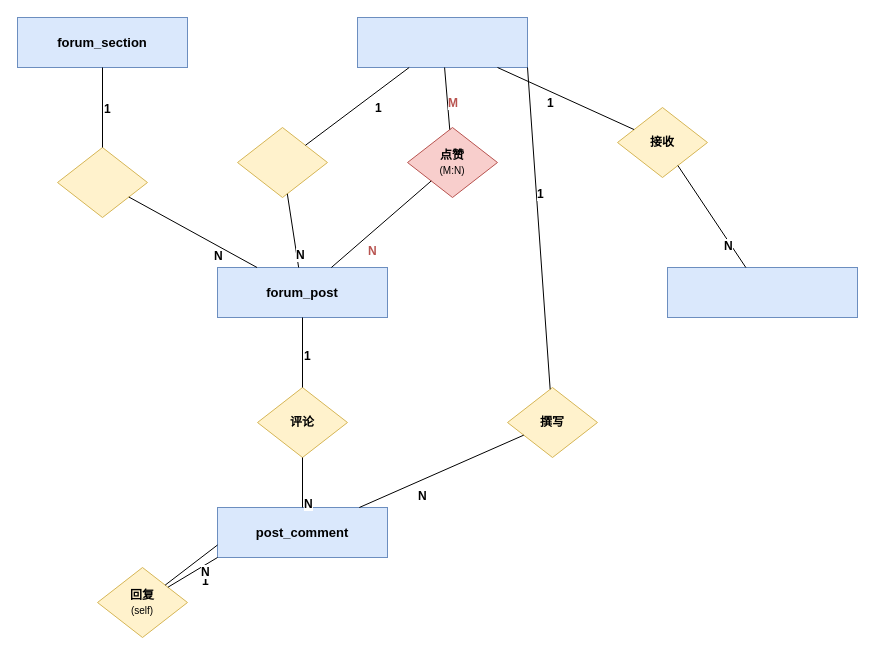
Image size: 875x655. Some labels were removed from this diagram. The centre of each missing label's shape, as x and y in pixels:
notification_message: point (762, 292)
user_account: point (442, 42)
发布: point (282, 162)
归属: point (102, 182)
